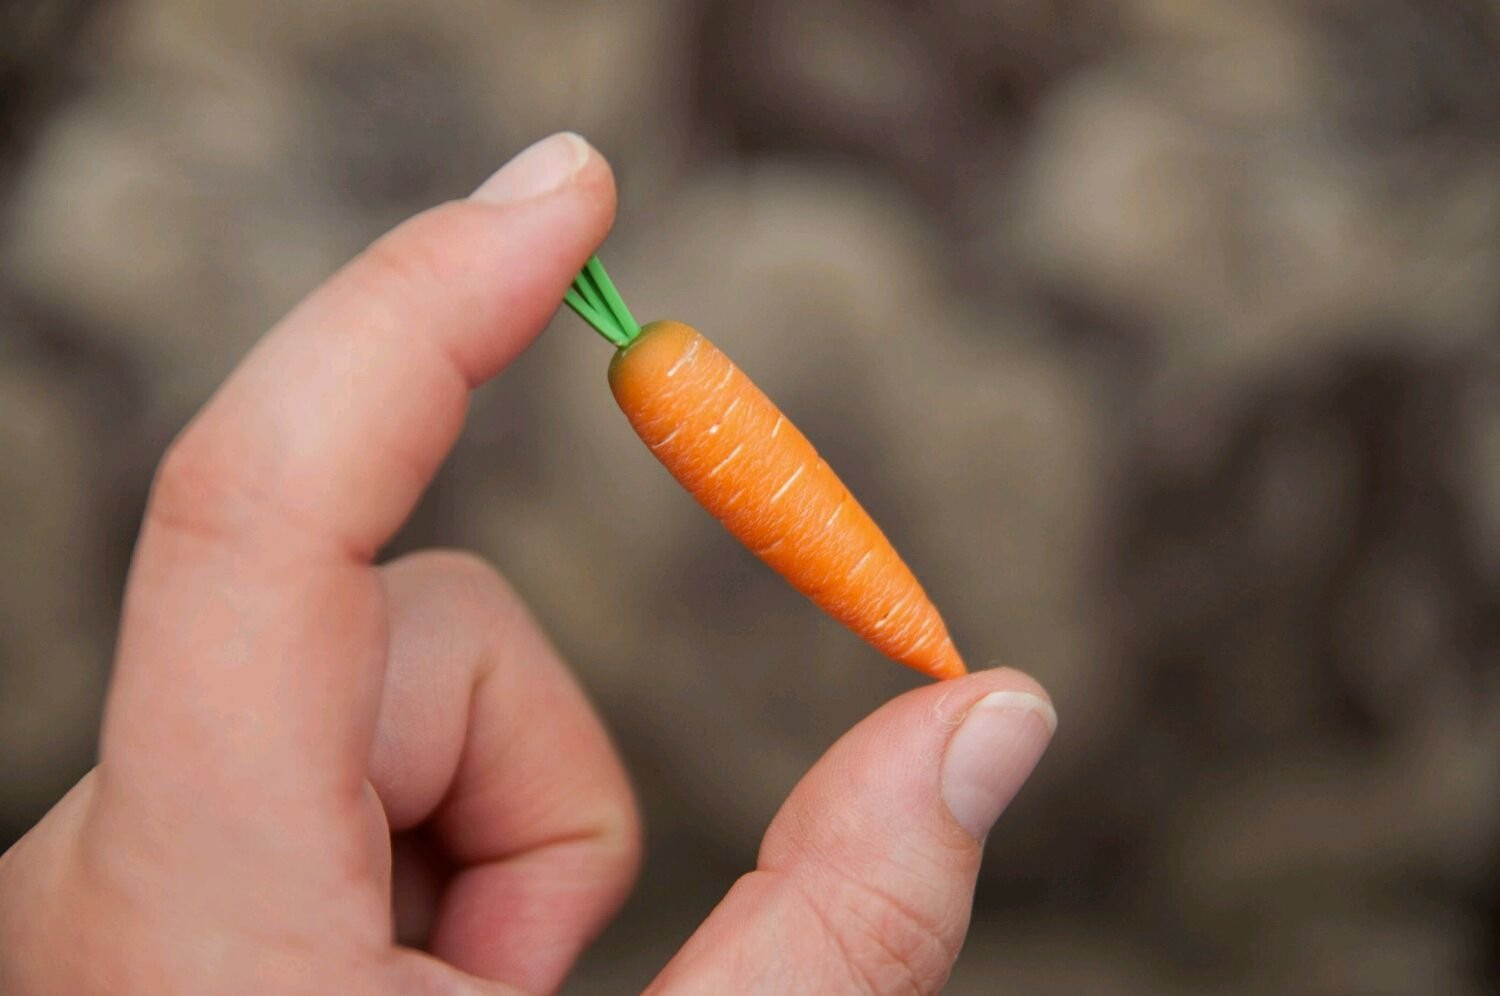carrot: (551, 246, 982, 684)
